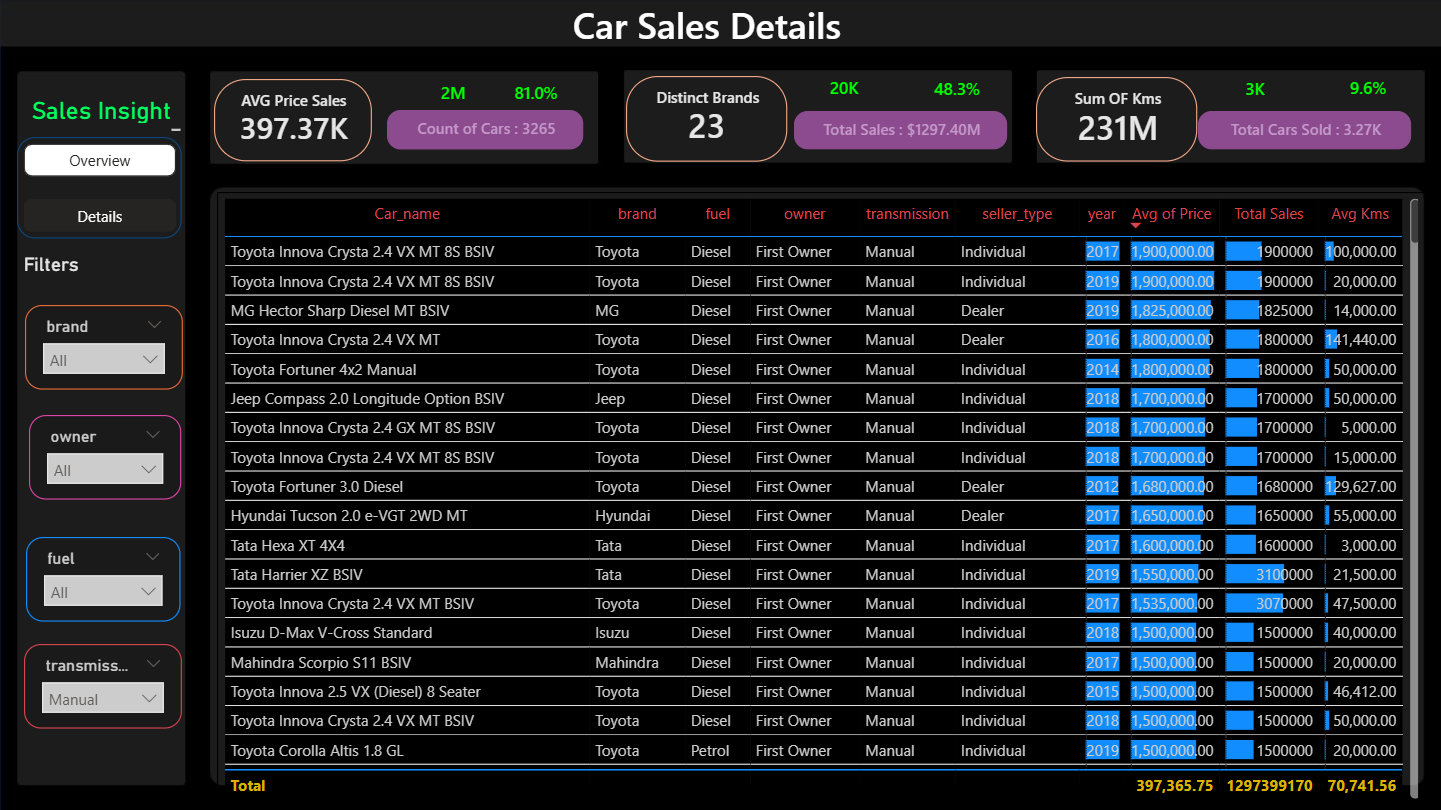

What the dashboard file says about the page in this screenshot:
{"tool":"powerbi","page":{"name":"Details","canvas":[1280,720],"ordinal":1},"visuals":[{"type":"textbox","title":"Car Sales Details","box":[504.1,0,389.9,40.1],"z":0},{"type":"slicer","fields":{"Values":["CAR-DETAILS-CLEANED.brand"]},"box":[23.1,270.9,139.7,75.3],"z":1000},{"type":"slicer","fields":{"Values":["CAR-DETAILS-CLEANED.owner"]},"box":[26.7,368,134.8,75.3],"z":2000},{"type":"slicer","fields":{"Values":["CAR-DETAILS-CLEANED.fuel"]},"box":[24.3,476.1,137.3,75.3],"z":3000},{"type":"slicer","fields":{"Values":["CAR-DETAILS-CLEANED.transmission"]},"box":[21.9,570.9,139.7,75.3],"z":4000},{"type":"textbox","title":"Filters","box":[17,224.7,149.4,20.6],"z":5000},{"type":"tableEx","fields":{"Values":["CAR-DETAILS-CLEANED.Car_name","CAR-DETAILS-CLEANED.brand","CAR-DETAILS-CLEANED.fuel","CAR-DETAILS-CLEANED.owner","CAR-DETAILS-CLEANED.transmission","CAR-DETAILS-CLEANED.seller_type","CAR-DETAILS-CLEANED.year","CAR-DETAILS-CLEANED.Avg of Price","CAR-DETAILS-CLEANED.Total Sales","CAR-DETAILS-CLEANED.Avg Kms"]},"box":[193.1,170.1,1071.3,541.7],"z":6000},{"type":"textbox","title":"Sales Insight","box":[24.3,85,142.1,36.4],"z":7000},{"type":"pageNavigator","box":[15.8,121.5,145.8,89.9],"z":8000},{"type":"card","title":"AVG Price Sales","fields":{"Values":["CAR-DETAILS-CLEANED.Avg of Price"]},"box":[190.7,69.8,139.5,73.3],"z":9000},{"type":"card","fields":{"Values":["CAR-DETAILS-CLEANED.Max Price"]},"box":[352.3,67.4,101.2,34.9],"z":10000},{"type":"card","fields":{"Values":["CAR-DETAILS-CLEANED.Percent Individual Cars"]},"box":[425.6,67.4,101.2,34.9],"z":11000},{"type":"card","fields":{"Values":["CAR-DETAILS-CLEANED.Cars Count KPI"]},"box":[344.2,97.7,174.4,35],"z":12000},{"type":"card","title":"Distinct Brands","fields":{"Values":["CAR-DETAILS-CLEANED.Distinct Brands"]},"box":[555.8,67.4,143,75.6],"z":13000},{"type":"card","fields":{"Values":["CAR-DETAILS-CLEANED.Min Price"]},"box":[698.8,62.8,101.2,34.9],"z":14000},{"type":"card","fields":{"Values":["CAR-DETAILS-CLEANED.Percent Petrol Cars"]},"box":[799.2,63.2,100.8,35.2],"z":15000},{"type":"card","fields":{"Values":["CAR-DETAILS-CLEANED.MTD Sales KPI"]},"box":[704.5,98.4,189.5,34],"z":16000},{"type":"card","title":"Sum OF Kms","fields":{"Values":["Sum(CAR-DETAILS-CLEANED.km_driven)"]},"box":[919.5,68,143.3,75.3],"z":17000},{"type":"card","fields":{"Values":["CAR-DETAILS-CLEANED.Total Cars"]},"box":[1062.8,63.2,100.8,35.2],"z":18000},{"type":"card","fields":{"Values":["CAR-DETAILS-CLEANED.Percent Automatic Cars"]},"box":[1163.6,61.9,100.8,35.2],"z":19000},{"type":"card","fields":{"Values":["CAR-DETAILS-CLEANED.Diesel Sales"]},"box":[1062.8,98.4,189.5,34],"z":20000}]}

Visuals, with their boxes in screenshot pixels (x1, y1, x2, y2), scaled from the page's 1280x720 canvas onto the 1441x810 screenshot:
"Car Sales Details" textbox: [568, 0, 1006, 45]
slicer - CAR-DETAILS-CLEANED.brand: [26, 305, 183, 389]
slicer - CAR-DETAILS-CLEANED.owner: [30, 414, 182, 499]
slicer - CAR-DETAILS-CLEANED.fuel: [27, 536, 182, 620]
slicer - CAR-DETAILS-CLEANED.transmission: [25, 642, 182, 727]
"Filters" textbox: [19, 253, 187, 276]
tableEx - CAR-DETAILS-CLEANED.Car_name x CAR-DETAILS-CLEANED.brand: [217, 191, 1423, 801]
"Sales Insight" textbox: [27, 96, 187, 137]
pageNavigator: [18, 137, 182, 238]
"AVG Price Sales" card: [215, 79, 372, 161]
card - CAR-DETAILS-CLEANED.Max Price: [397, 76, 511, 115]
card - CAR-DETAILS-CLEANED.Percent Individual Cars: [479, 76, 593, 115]
card - CAR-DETAILS-CLEANED.Cars Count KPI: [387, 110, 584, 149]
"Distinct Brands" card: [626, 76, 787, 161]
card - CAR-DETAILS-CLEANED.Min Price: [787, 71, 901, 110]
card - CAR-DETAILS-CLEANED.Percent Petrol Cars: [900, 71, 1013, 111]
card - CAR-DETAILS-CLEANED.MTD Sales KPI: [793, 111, 1006, 149]
"Sum OF Kms" card: [1035, 76, 1196, 161]
card - CAR-DETAILS-CLEANED.Total Cars: [1196, 71, 1310, 111]
card - CAR-DETAILS-CLEANED.Percent Automatic Cars: [1310, 70, 1423, 109]
card - CAR-DETAILS-CLEANED.Diesel Sales: [1196, 111, 1410, 149]
